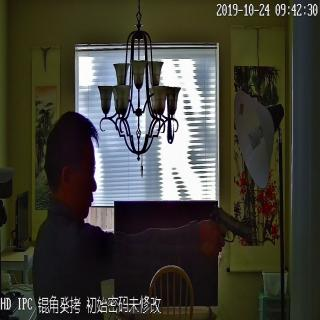gun: (201, 202, 249, 261)
